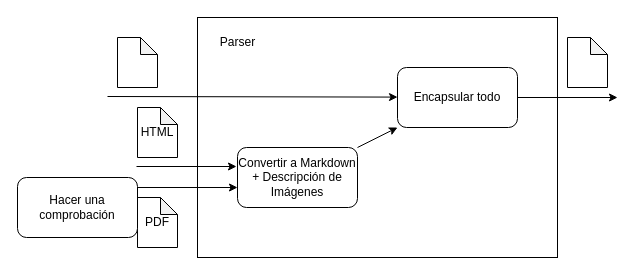
Image size: 643x275. Some labels were removed from this diagram. Here are the shapes that lost their labels. From the top down, the box of each, then its label:
(116, 36, 158, 88): URL, Fecha
(566, 36, 608, 88): Artículo (.md)
